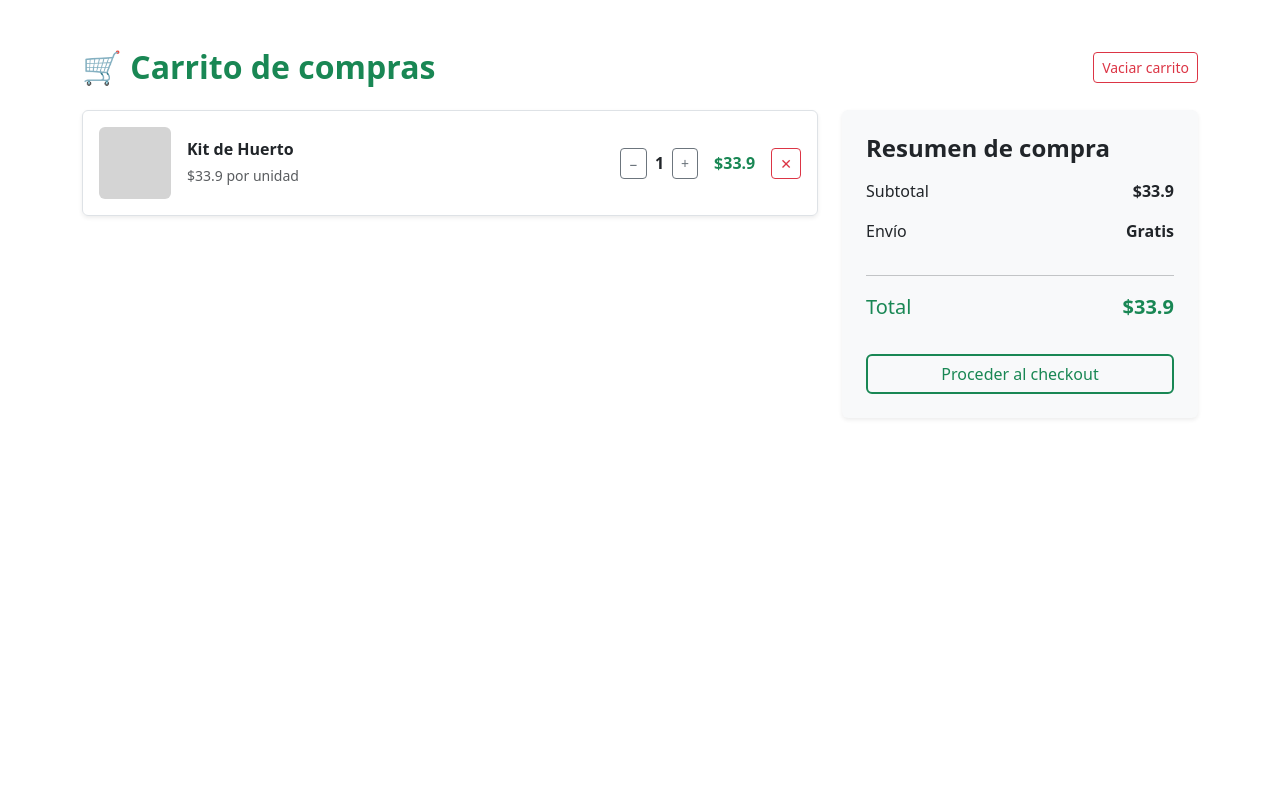
Test case: Carrito › redondea a dos decimales como el backend para subtotal 33.9 y porcentaje 15
Click the button "Proceder al checkout".
click(1020, 374)  # box [866,354,1174,394]
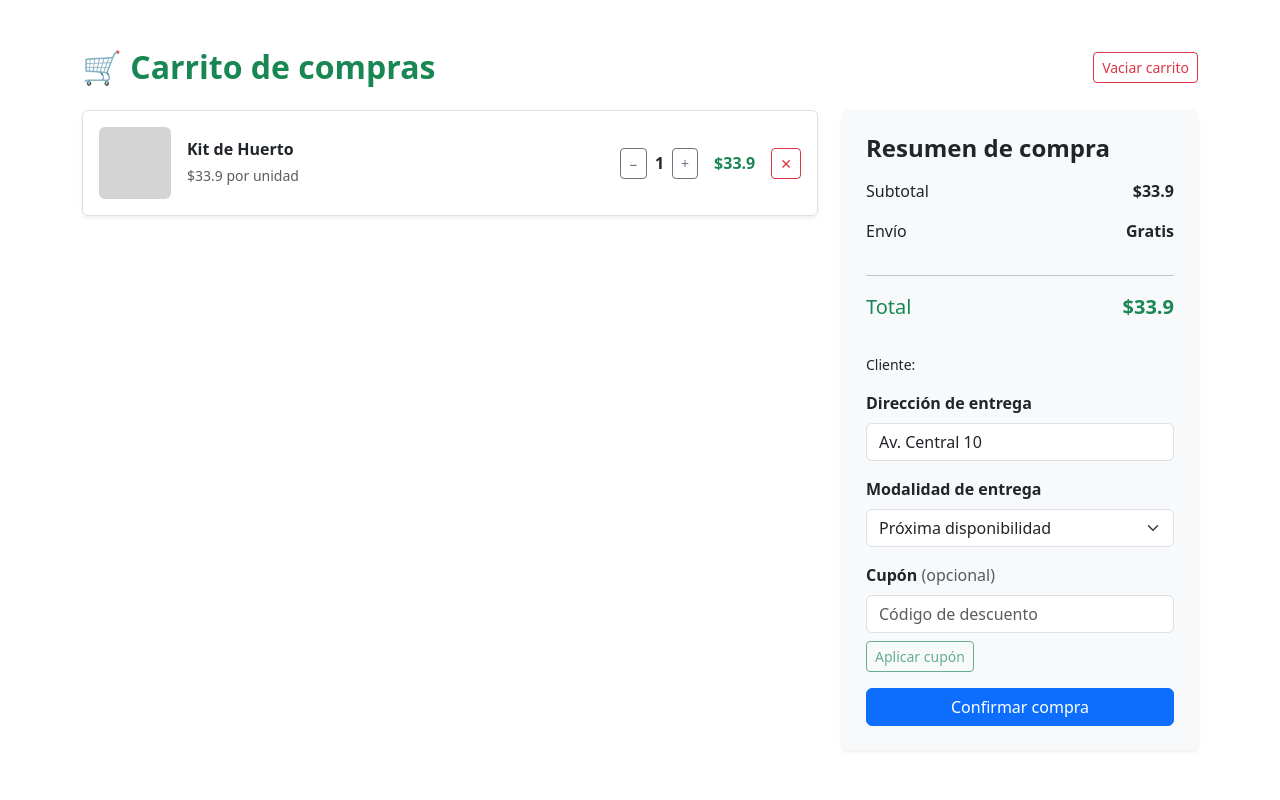
Type "REDONDEO" into the field labelled "Cupón (opcional)".
click(1020, 614); type("REDONDEO")  # box [866,595,1174,633]
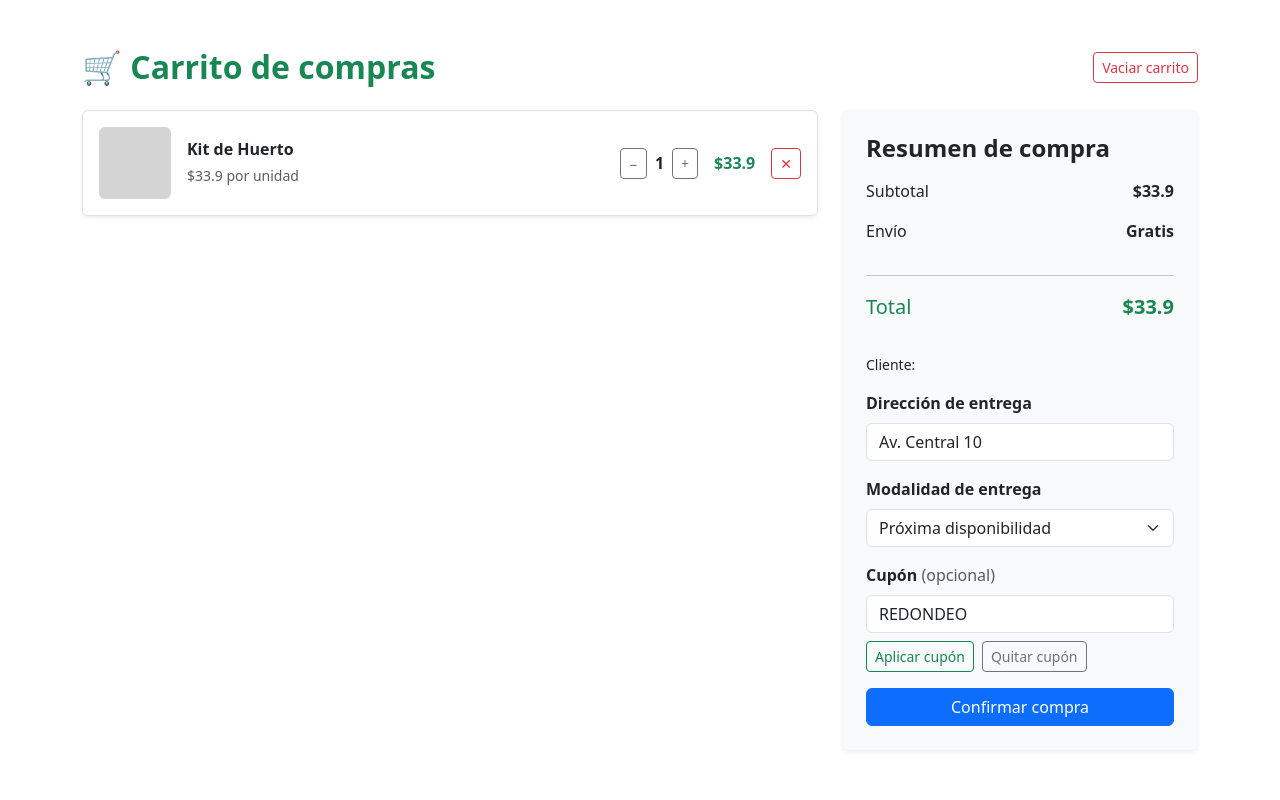
Click the button "Aplicar cupón".
click(920, 657)  # box [866,641,974,672]
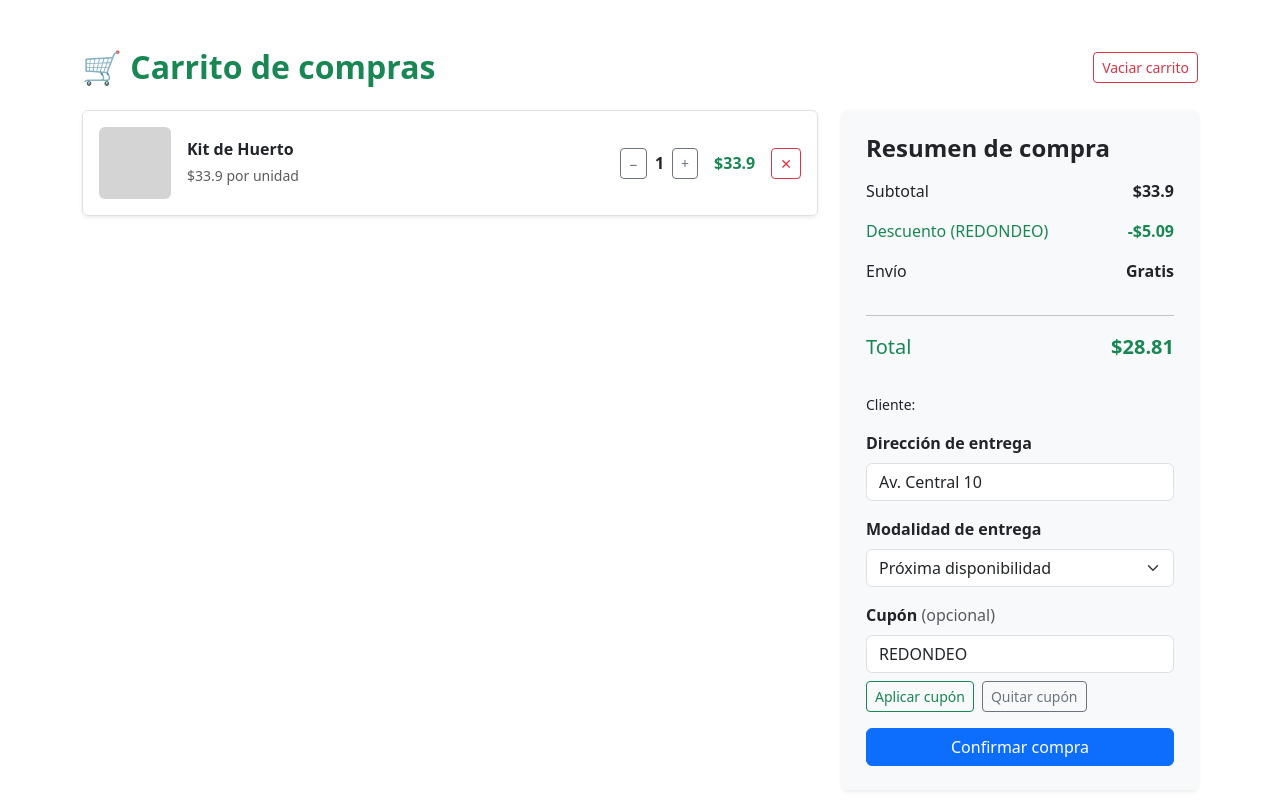
Check: the text "Descuento (REDONDEO)" is shown, box [866,219,1048,243]
